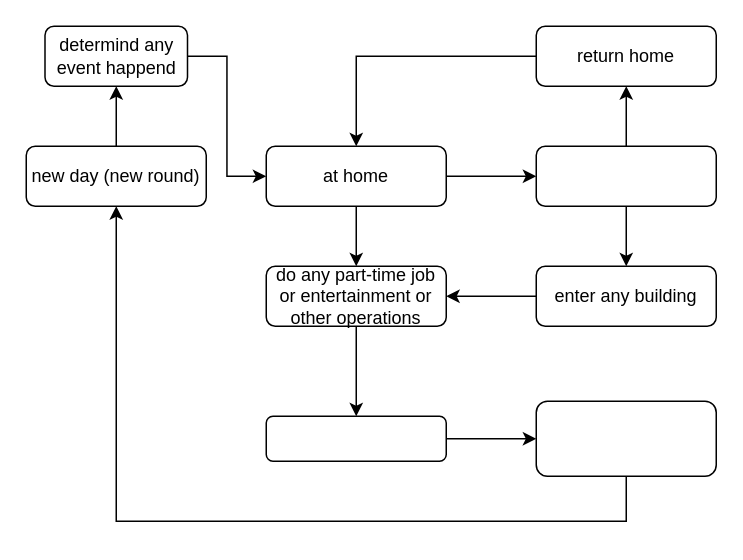
Some shapes in this 743 by 560 pixel diagram are drawn without their labels. The box of each missing label's shape, as (x1, y1, x2, y2) in pixels:
Determine whether an event is triggered: (535, 400, 716, 476)
go to the map: (535, 145, 716, 206)
Settlement income: (265, 415, 446, 461)
